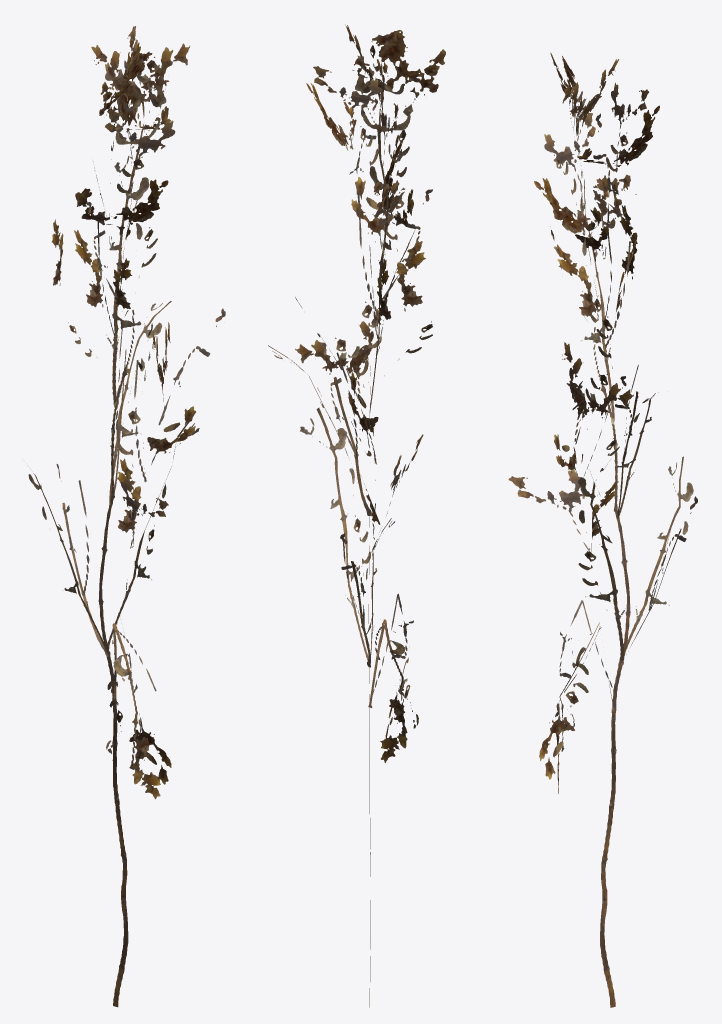
The model's file is desert_reed_1_8.FBX.
3 views of the same model, side by side, from view 1: azimuth 30°, elevation 25°; view 2: azimuth 150°, elevation 25°; view 3: azimuth 270°, elevation 25° (orthographic). The views are drawn at different scales.
Visible parts, largest first — view 1: desert_reed_1_8; view 2: desert_reed_1_8; view 3: desert_reed_1_8.
Boxes of the visible parts, <box> form: desert_reed_1_8: <box>27,26,225,1007</box>; desert_reed_1_8: <box>268,24,445,1007</box>; desert_reed_1_8: <box>508,52,697,1007</box>.
Size of the model in its own units: 10.44 by 59.49 by 11.9.
1 material, 1 textured.
